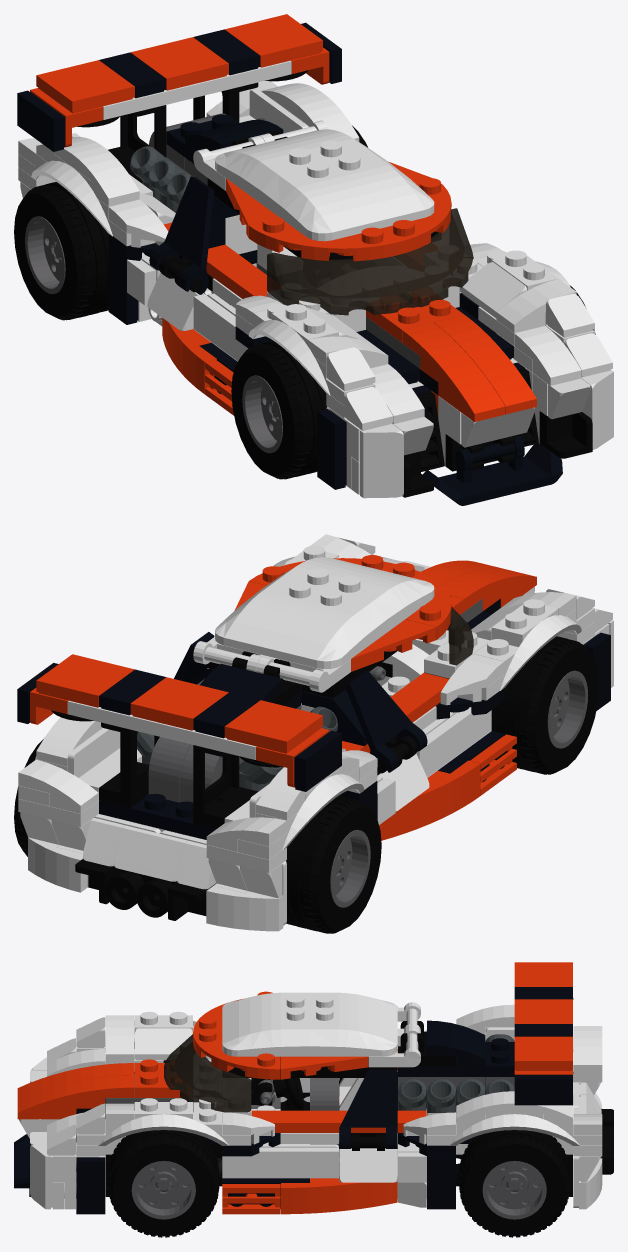
Rendered from SunsetTrackRacer.dae.
The picture shows the model from 3 angles, top to bottom: view 1: azimuth 30°, elevation 25°; view 2: azimuth 150°, elevation 25°; view 3: azimuth 270°, elevation 25°; orthographic projection. The views are drawn at different scales.
Parts seen in each view (by area): view 1: Part_98281.214, Part_62360.184, Part_58090.204, Part_58090.209, Part_18646.213, Part_98834.83, Part_61678.105, Part_62361.136, Part_44676.186, Part_61678.104, Part_3068.191, Part_93273.159 (+58 smaller); view 2: Part_98281.214, Part_58090.209, Part_58090.204, Part_62361.136, Part_44676.186, Part_61678.177, Part_3068.191, Part_60032.160, Part_3068.188, Part_3068.192, Part_11477.45, Part_85984.46 (+63 smaller); view 3: Part_98281.214, Part_58090.206, Part_58090.205, Part_62361.134, Part_62360.184, Part_61678.173, Part_2431.169, Part_61678.104, Part_44676.185, Part_18646.213, Part_62361.137, Part_55982.207 (+64 smaller).
Boxes of the visible parts, box(x1,y1,x2,y2) form: Part_98281.214: box(215, 129, 434, 241); Part_62360.184: box(267, 208, 473, 315); Part_58090.204: box(14, 182, 108, 320); Part_58090.209: box(231, 341, 327, 479); Part_18646.213: box(249, 178, 451, 261); Part_98834.83: box(422, 436, 562, 505); Part_61678.105: box(402, 322, 505, 421); Part_62361.136: box(235, 304, 375, 404); Part_44676.186: box(149, 176, 214, 294); Part_61678.104: box(433, 315, 536, 414); Part_3068.191: box(36, 60, 134, 113); Part_93273.159: box(36, 137, 139, 206); Part_98281.214: box(215, 557, 434, 668); Part_58090.209: box(491, 636, 598, 774); Part_58090.204: box(286, 795, 381, 933); Part_62361.136: box(473, 599, 594, 700); Part_44676.186: box(344, 670, 427, 775); Part_61678.177: box(379, 760, 480, 840); Part_3068.191: box(224, 700, 322, 753); Part_60032.160: box(193, 745, 258, 829); Part_3068.188: box(130, 677, 228, 730); Part_3068.192: box(36, 654, 134, 707); Part_11477.45: box(206, 885, 283, 931); Part_85984.46: box(114, 825, 187, 881); Part_98281.214: box(222, 992, 397, 1056); Part_58090.206: box(108, 1130, 219, 1237); Part_58090.205: box(459, 1130, 570, 1237); Part_62361.134: box(76, 1098, 251, 1145); Part_62360.184: box(164, 1034, 251, 1112); Part_61678.173: box(281, 1178, 397, 1214); Part_2431.169: box(222, 1147, 338, 1177); Part_61678.104: box(17, 1075, 134, 1119); Part_44676.185: box(339, 1069, 397, 1148); Part_18646.213: box(193, 991, 280, 1079); Part_62361.137: box(427, 1114, 602, 1145); Part_55982.207: box(131, 1161, 195, 1219).
Size of the model in its own units: 78 by 53 by 164.
